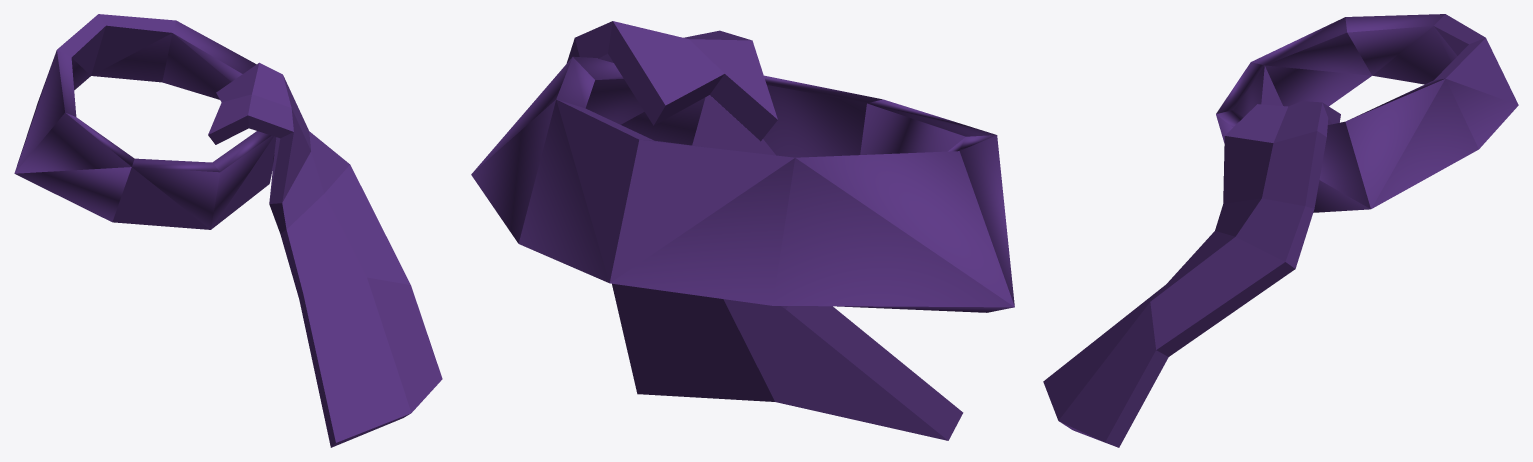
Rendered from F_sciarpa.fbx.
The picture shows the model from 3 angles, left to right: view 1: azimuth 30°, elevation 25°; view 2: azimuth 150°, elevation 25°; view 3: azimuth 270°, elevation 25°; orthographic projection. The views are drawn at different scales.
Parts seen in each view (by area): view 1: sciarpa.002; view 2: sciarpa.002; view 3: sciarpa.002.
Boxes of the visible parts, box(x1,y1,x2,y2) form: sciarpa.002: box(14, 14, 442, 447); sciarpa.002: box(471, 21, 1014, 440); sciarpa.002: box(1043, 14, 1518, 447).
Size of the model in its own units: 21.37 by 20 by 25.77.
